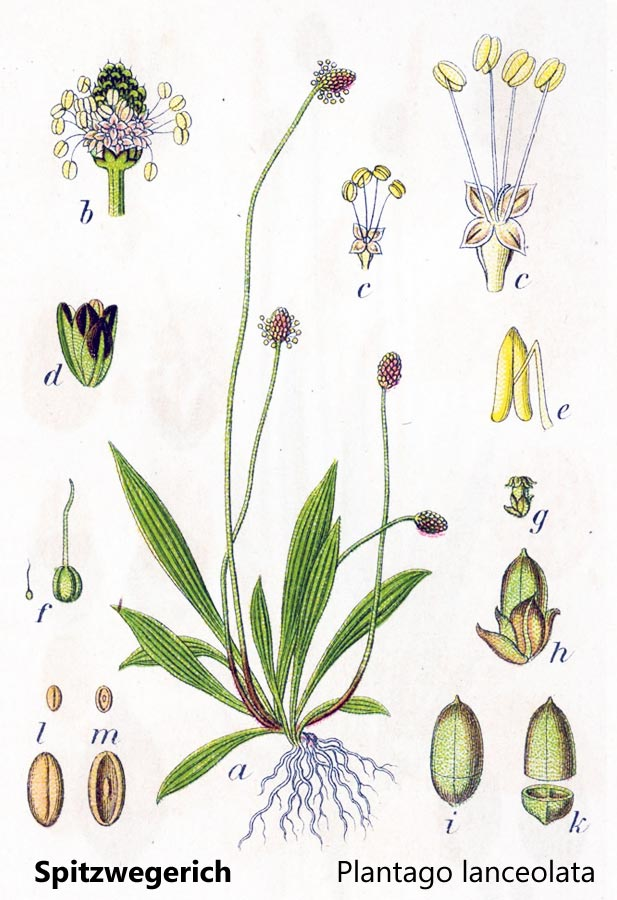buckhorn plantain: (59, 68, 446, 742)
